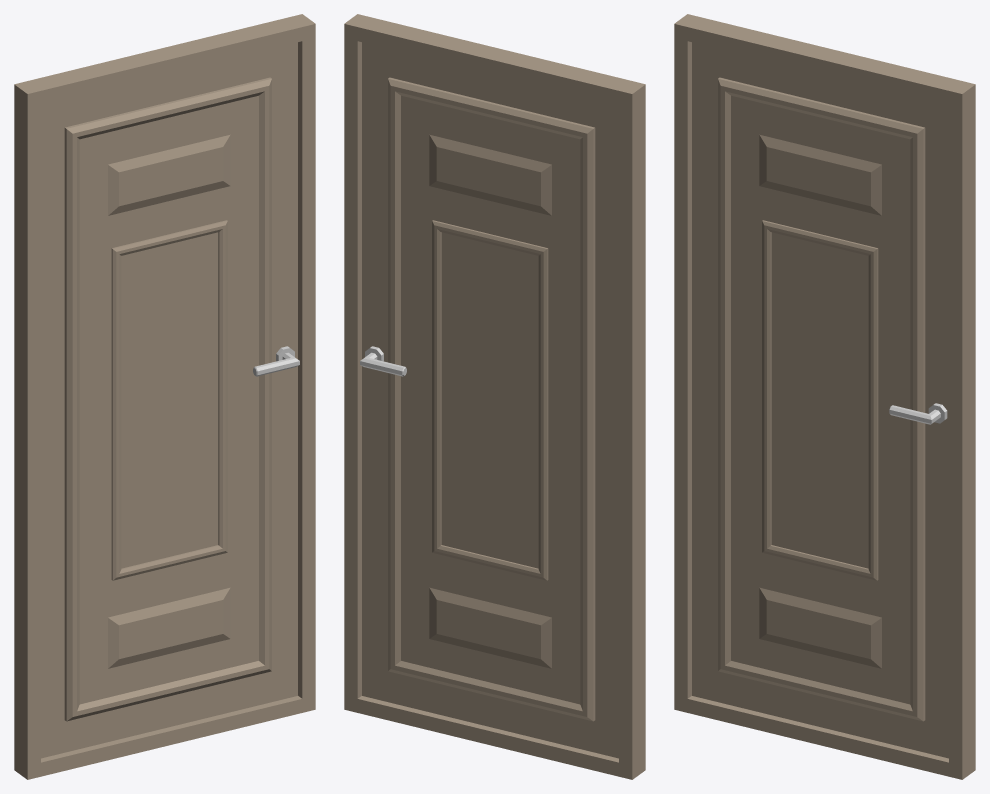
Rendered from Mesh_Door_C03.fbx.
3 renders of one model, left to right at view 1: azimuth 30°, elevation 25°; view 2: azimuth 150°, elevation 25°; view 3: azimuth 330°, elevation 25°, orthographic.
Visible parts, largest first — view 1: Mesh_Door_C03; view 2: Mesh_Door_C03; view 3: Mesh_Door_C03.
Part boxes in pixels (x1,y1,x2,y2): Mesh_Door_C03: [14, 14, 315, 779]; Mesh_Door_C03: [344, 14, 645, 779]; Mesh_Door_C03: [674, 14, 975, 779].
Size of the model in its own units: 0.9 by 2.05 by 0.1524.
